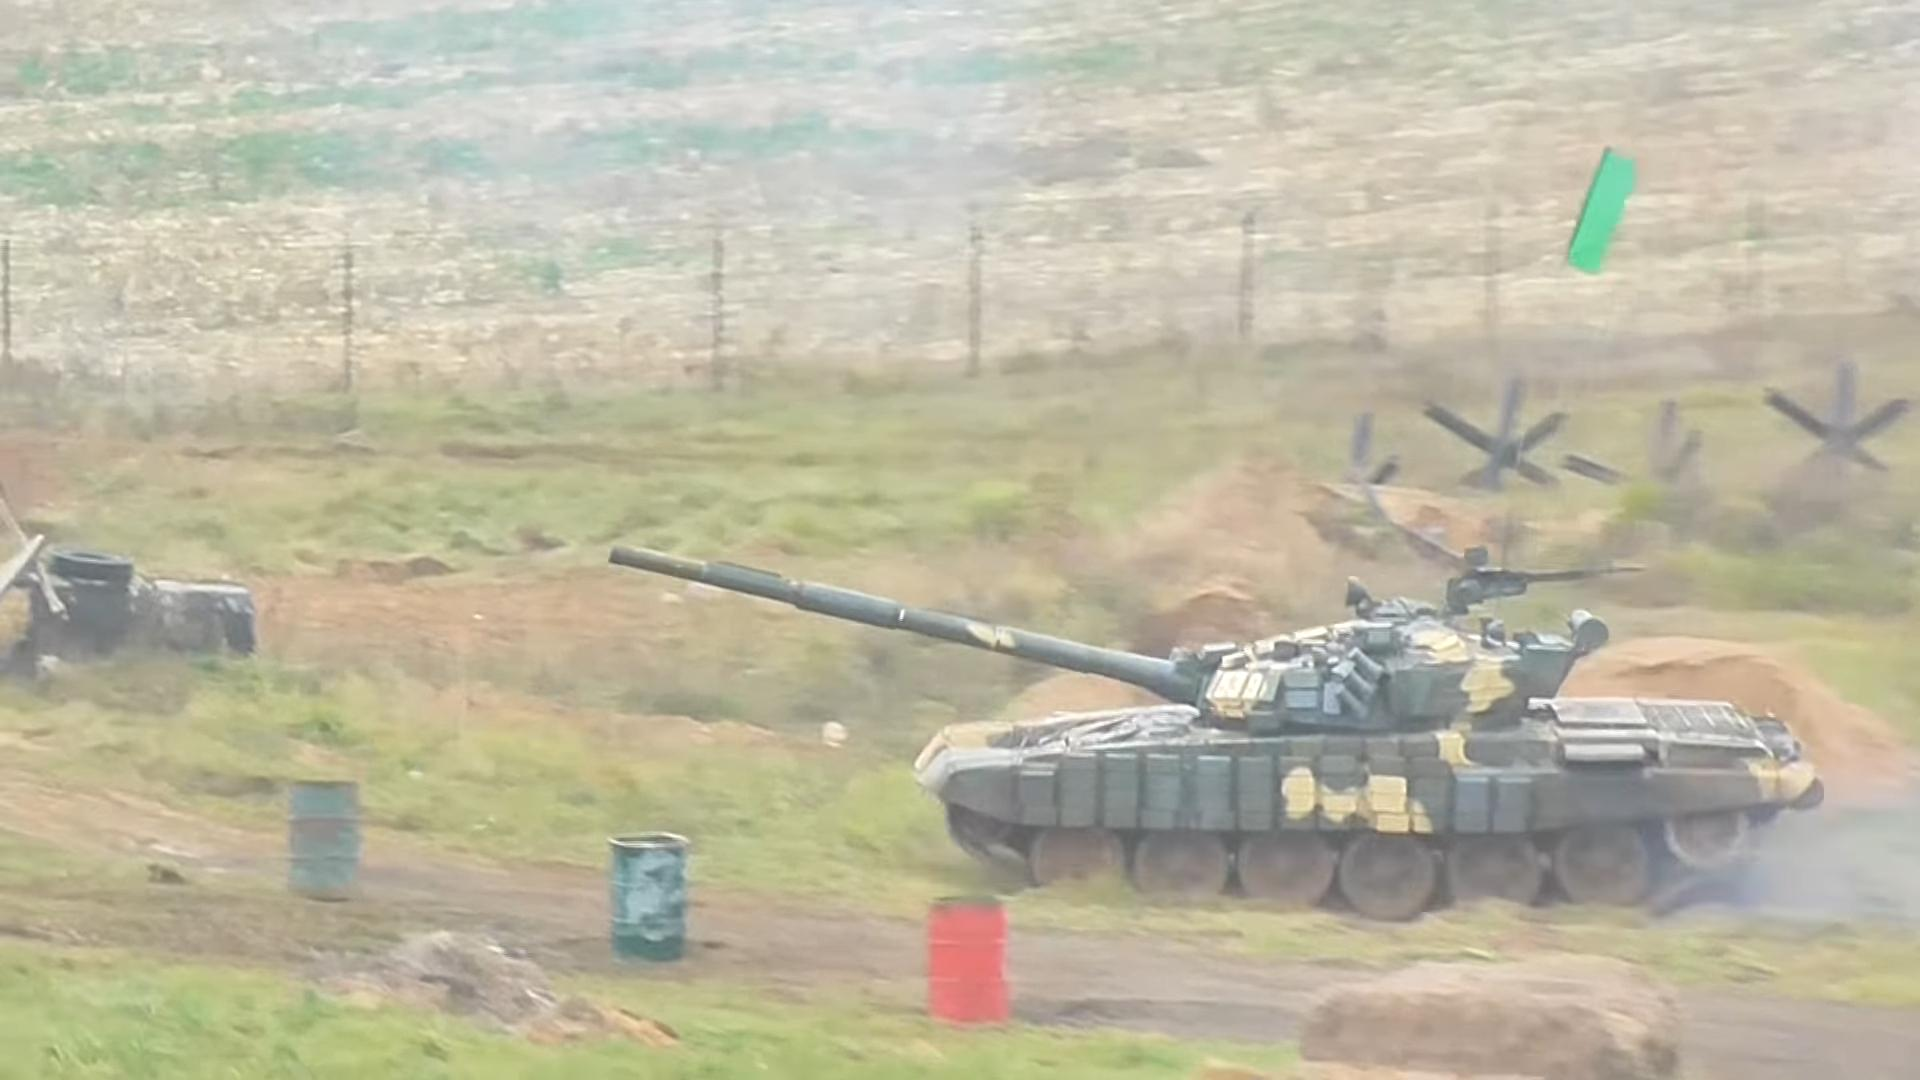tank: (608, 542, 1825, 924)
